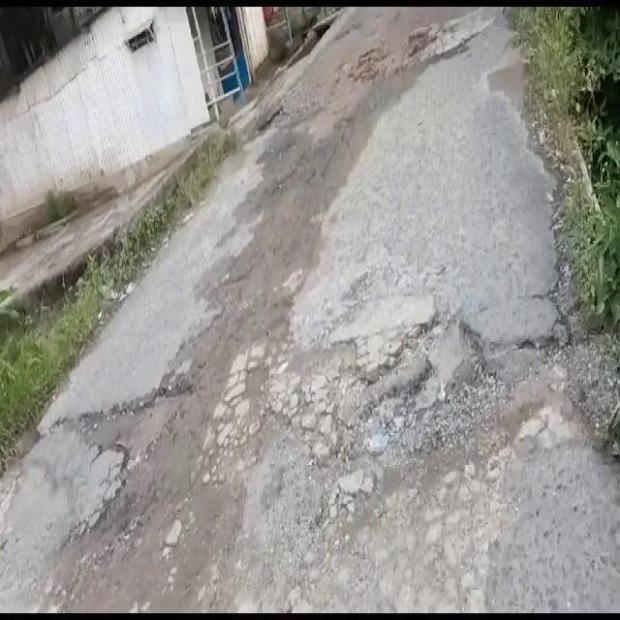lubang: (48, 226, 601, 614), (271, 8, 502, 122)
